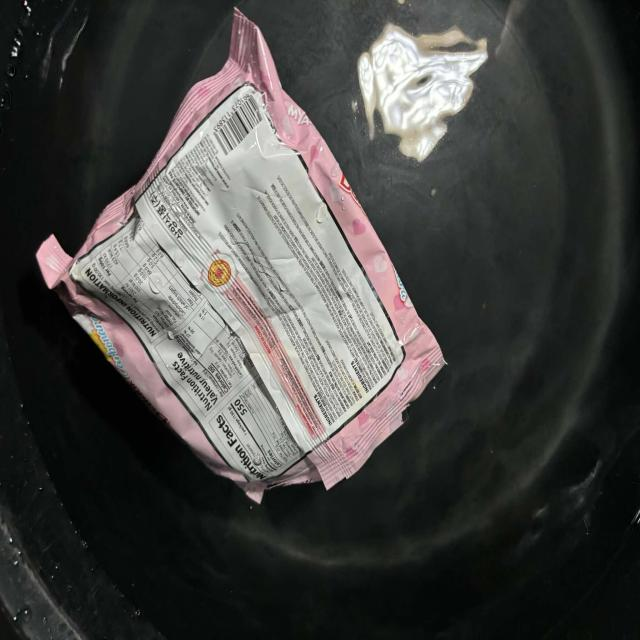Plastic Wrapper: (37, 9, 445, 503)
